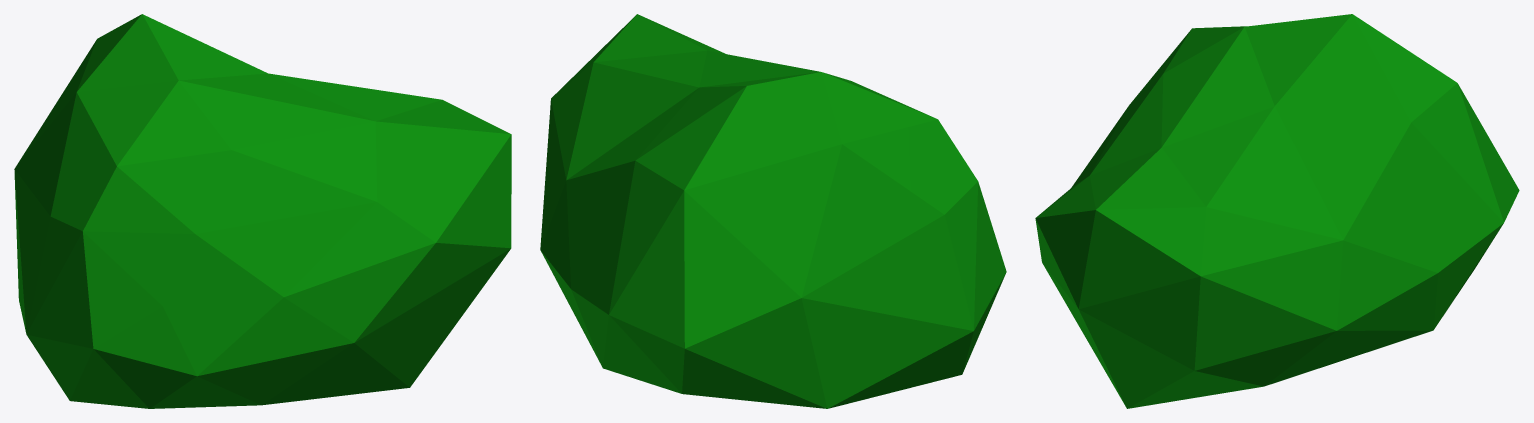
Rendered from lp_tree5_Cube_011.obj.
3 views of the same model, side by side, from view 1: azimuth 30°, elevation 25°; view 2: azimuth 150°, elevation 25°; view 3: azimuth 270°, elevation 25° (orthographic). The views are drawn at different scales.
Visible parts, largest first — view 1: lp_tree5_Cube_011; view 2: lp_tree5_Cube_011; view 3: lp_tree5_Cube_011.
Part boxes in pixels (box(x1,y1,x2,y2)): lp_tree5_Cube_011: box(14, 14, 511, 408); lp_tree5_Cube_011: box(540, 14, 1006, 408); lp_tree5_Cube_011: box(1035, 14, 1519, 408).
Size of the model in its own units: 6.06 by 4.3 by 5.87.
